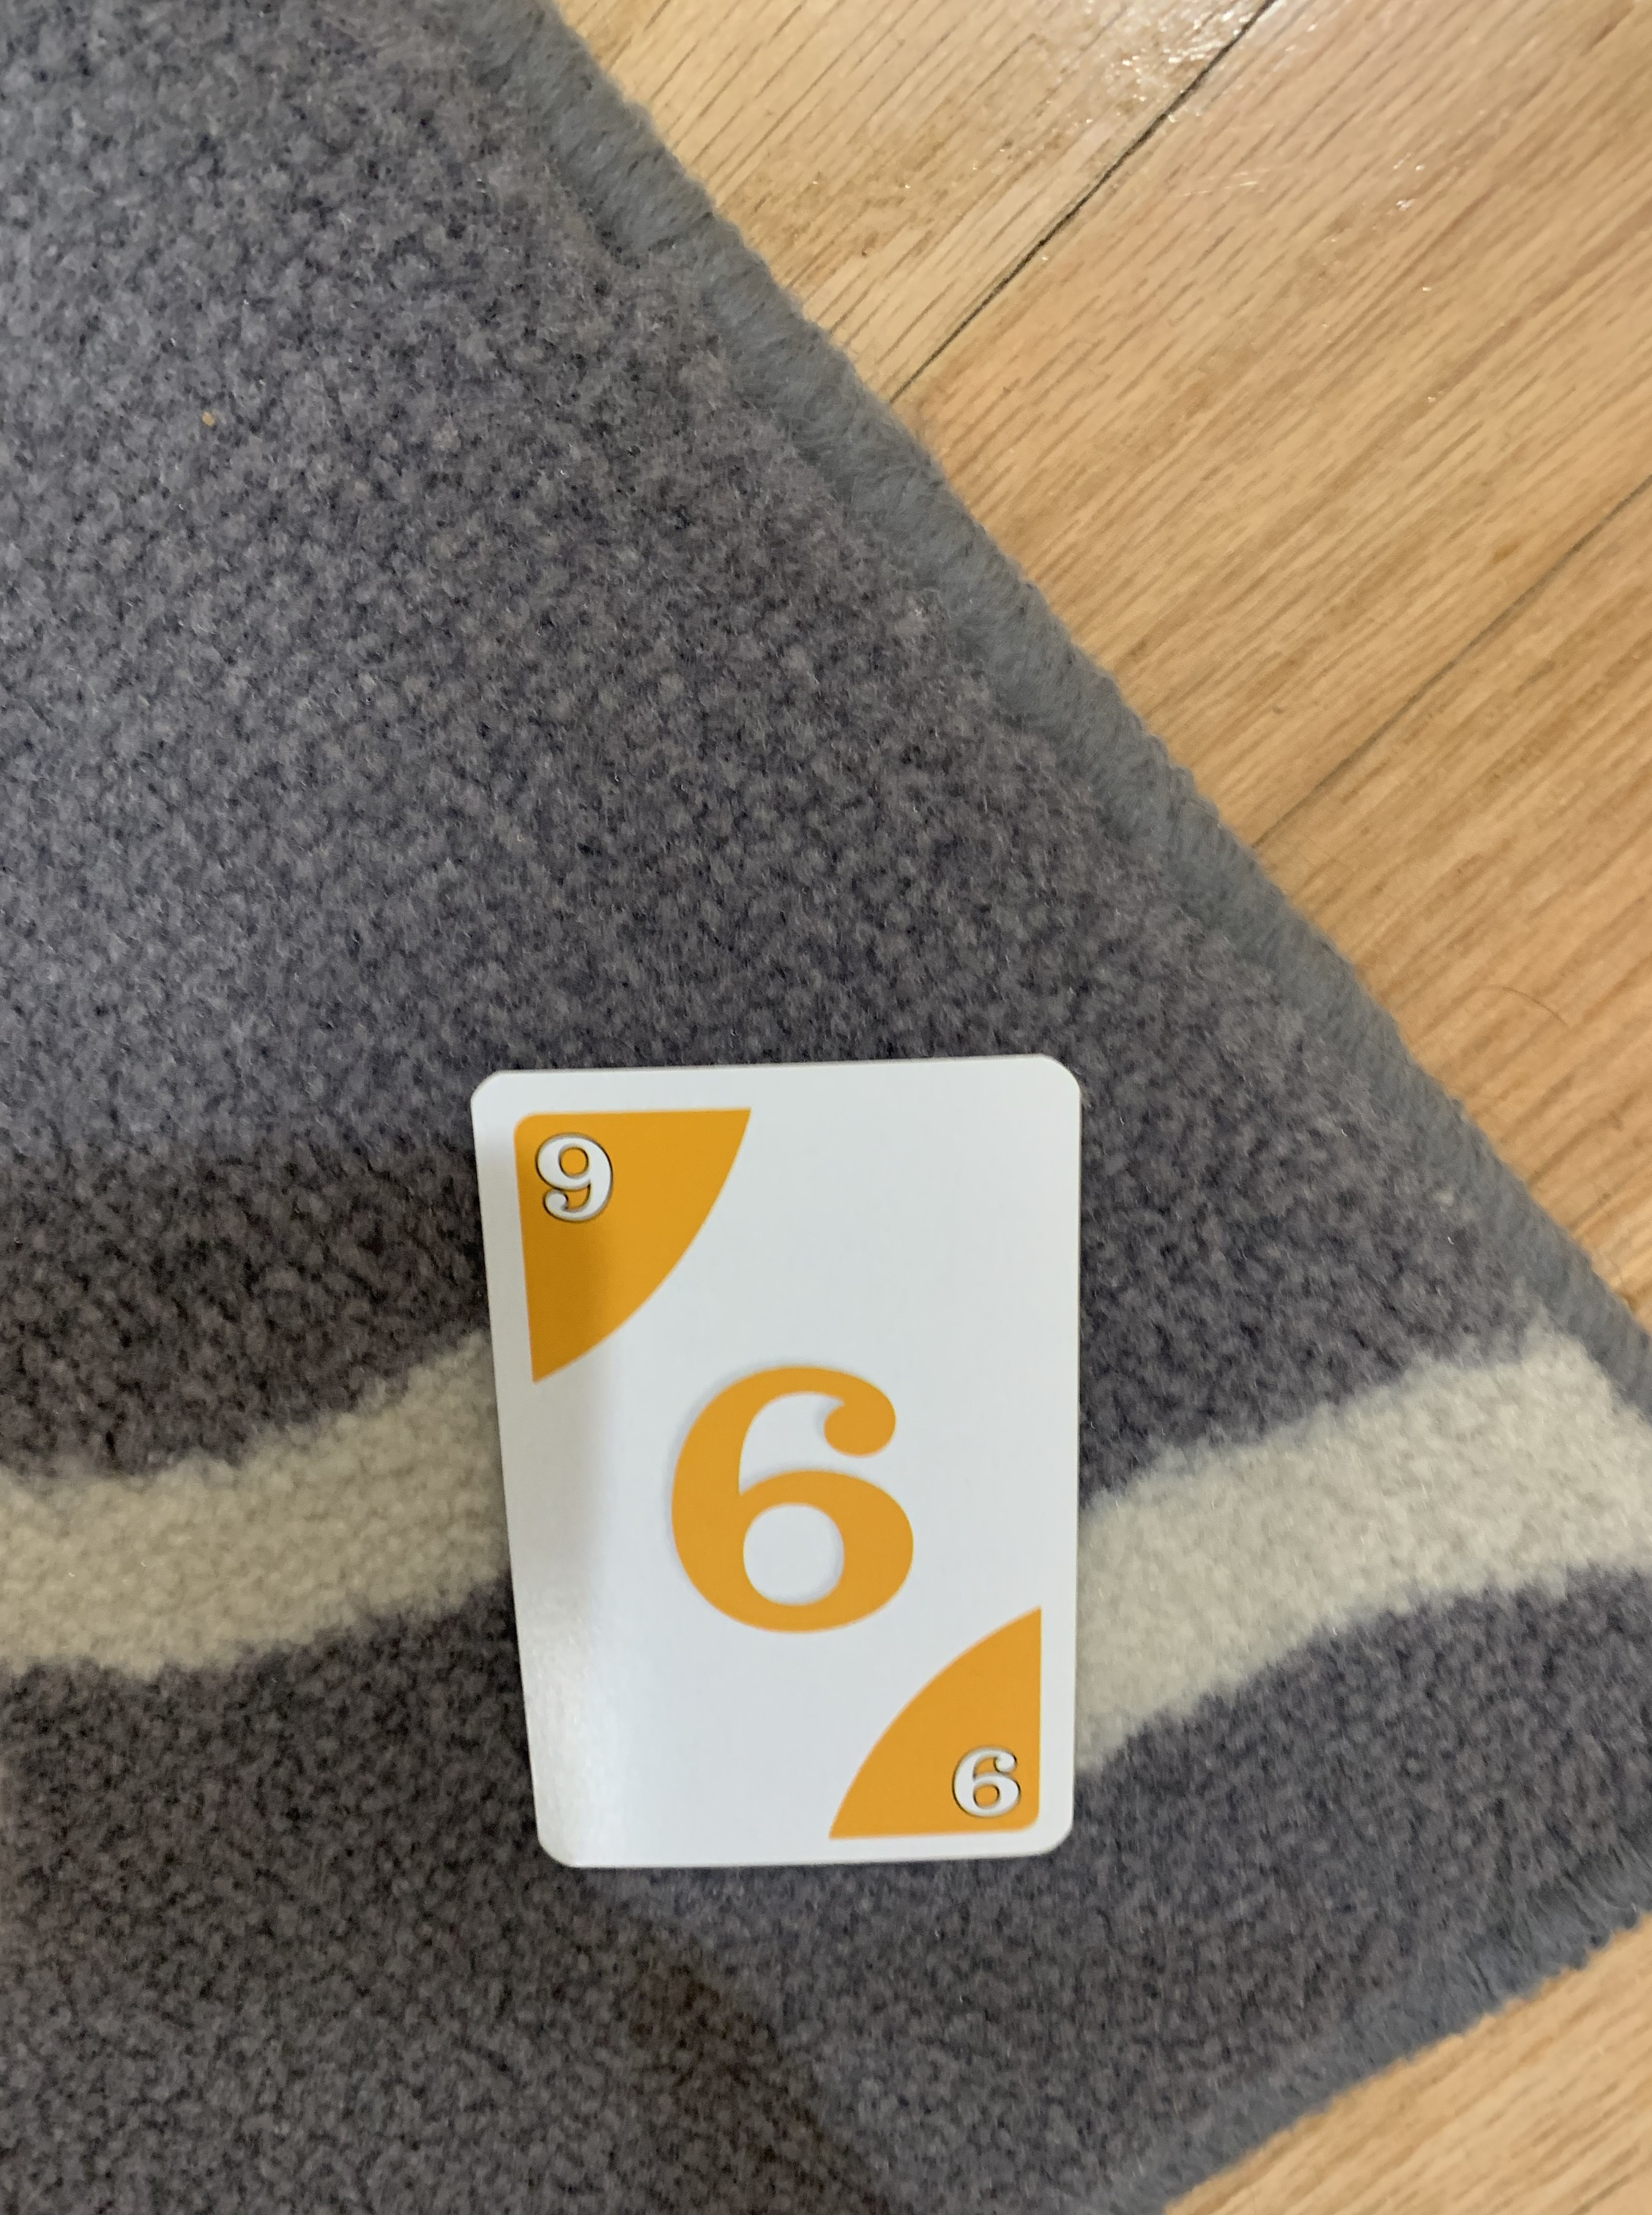six: (444, 1038, 1109, 1889)
